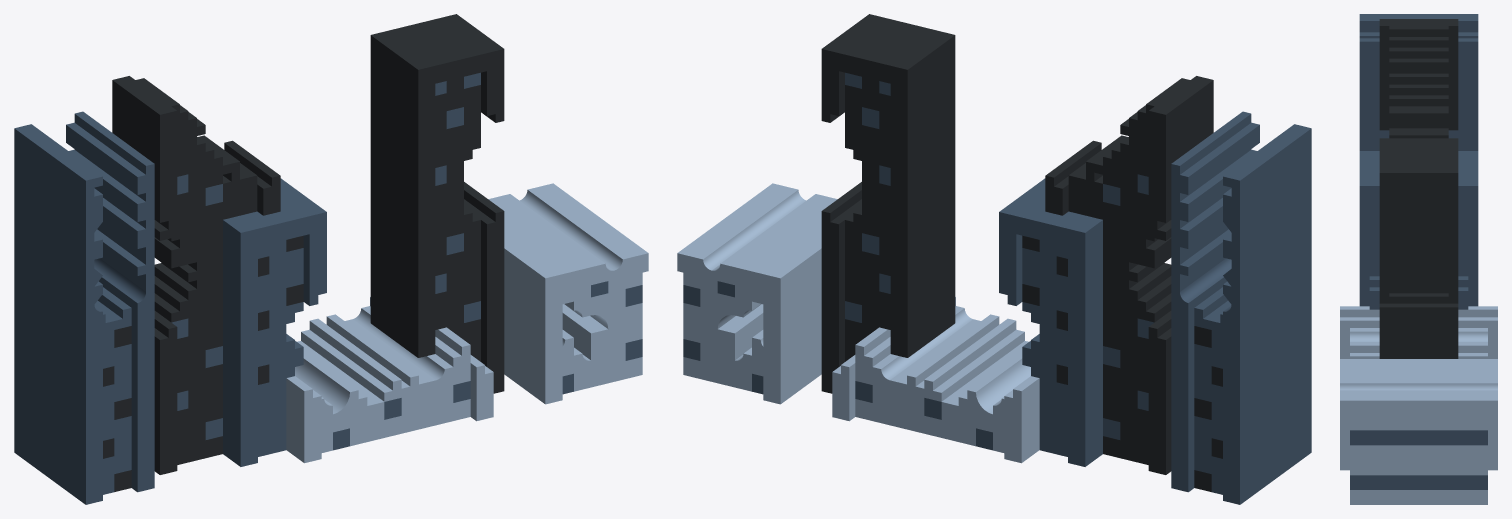
The model's file is fondo_roto_scene1.obj.
The picture shows the model from 3 angles, left to right: view 1: azimuth 30°, elevation 25°; view 2: azimuth 150°, elevation 25°; view 3: azimuth 270°, elevation 25°; orthographic projection. The views are drawn at different scales.
Bounding box in the file's own units: 32 × 20 × 9.6.
